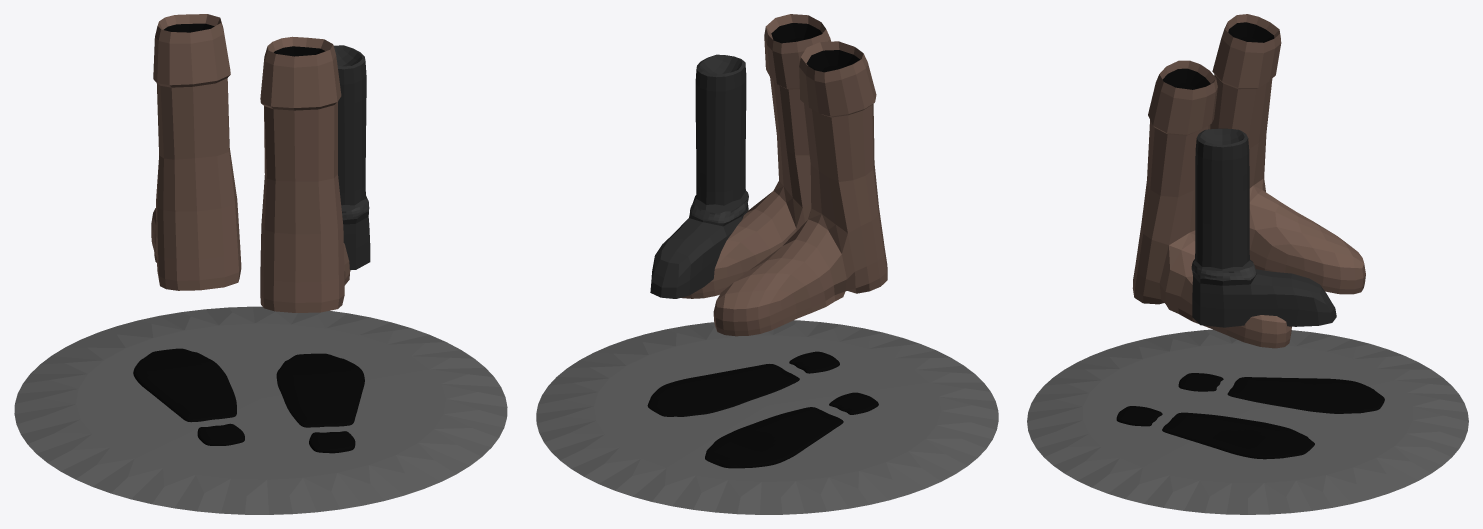
File: ExportedBlenderFBXFile.fbx
3 views of the same model, side by side, from view 1: azimuth 30°, elevation 25°; view 2: azimuth 150°, elevation 25°; view 3: azimuth 270°, elevation 25° (orthographic). The views are drawn at different scales.
Visible parts, largest first — view 1: Cylinder, Plane_001, Plane_000, Cylinder_001, Cylinder_002, Cube; view 2: Cylinder, Plane_000, Cube, Plane_001, Cylinder_002, Cylinder_001; view 3: Cylinder, Plane_001, Plane_000, Cube, Cylinder_001, Cylinder_002.
Boxes of the visible parts, x1=… form: Cylinder: x1=14, y1=306, x2=507, y2=514; Plane_001: x1=260, y1=36, x2=350, y2=312; Plane_000: x1=151, y1=14, x2=241, y2=290; Cylinder_001: x1=276, y1=353, x2=364, y2=453; Cylinder_002: x1=133, y1=348, x2=244, y2=445; Cube: x1=334, y1=45, x2=370, y2=270; Cylinder: x1=536, y1=320, x2=998, y2=514; Plane_000: x1=713, y1=41, x2=887, y2=336; Cube: x1=650, y1=54, x2=748, y2=298; Plane_001: x1=681, y1=14, x2=830, y2=298; Cylinder_002: x1=705, y1=392, x2=878, y2=468; Cylinder_001: x1=647, y1=351, x2=839, y2=416; Cylinder: x1=1027, y1=329, x2=1468, y2=514; Plane_001: x1=1132, y1=60, x2=1291, y2=348; Plane_000: x1=1210, y1=14, x2=1365, y2=294; Cube: x1=1191, y1=128, x2=1336, y2=327; Cylinder_001: x1=1116, y1=406, x2=1314, y2=459; Cylinder_002: x1=1178, y1=373, x2=1384, y2=413.
Bounding box in the file's own units: 1.99 × 1.87 × 1.99.
